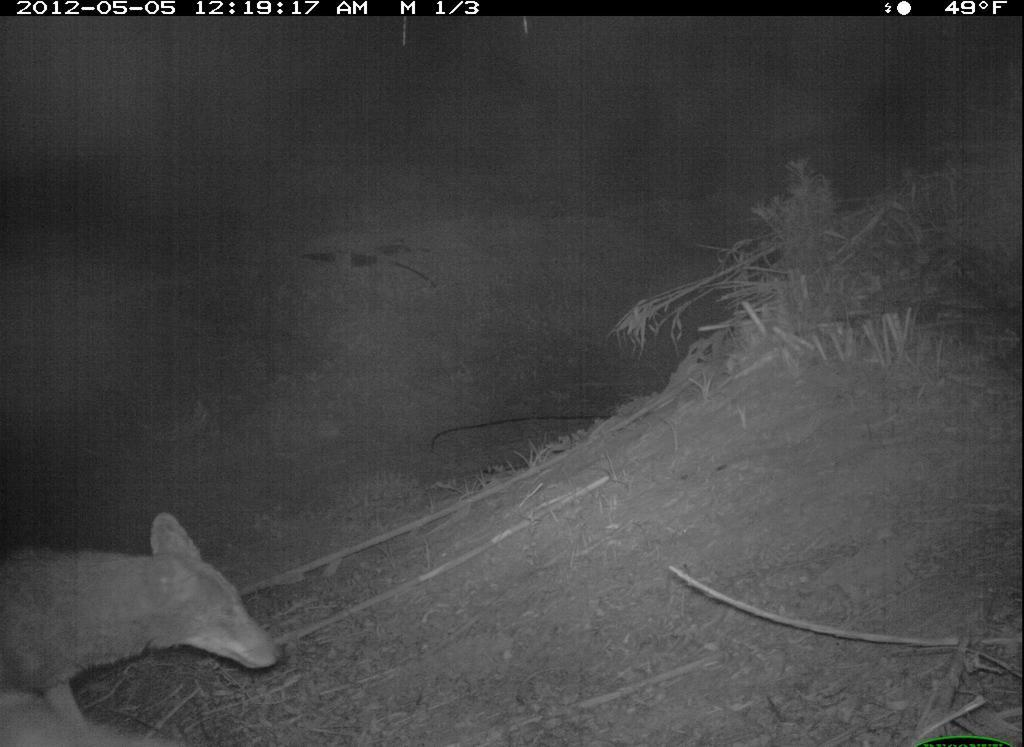coyote: (2, 507, 292, 734)
